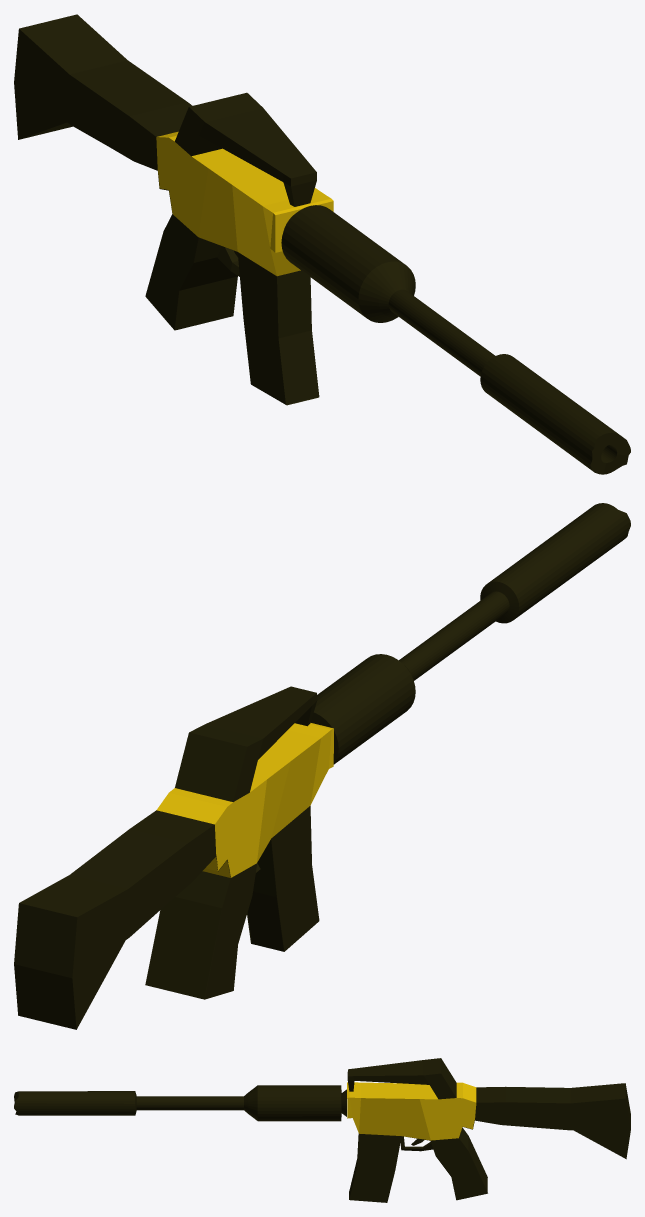
3 views of the same model, one above another, from view 1: azimuth 30°, elevation 25°; view 2: azimuth 150°, elevation 25°; view 3: azimuth 270°, elevation 25° (orthographic). The views are drawn at different scales.
Parts seen in each view (by area): view 1: Cylinder; view 2: Cylinder; view 3: Cylinder.
Part boxes in pixels (x1,y1,x2,y2): Cylinder: (14, 14, 630, 474); Cylinder: (14, 503, 630, 1029); Cylinder: (14, 1058, 630, 1202).
Bounding box in the file's own units: 0.5975 × 2.37 × 9.96.
